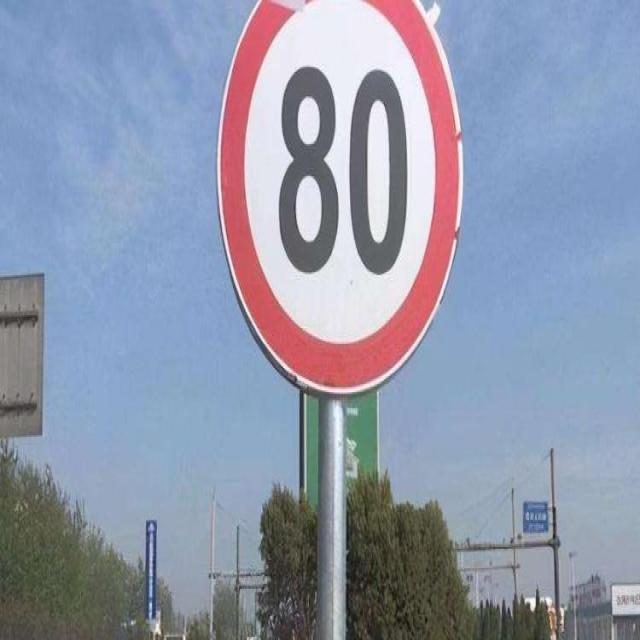speed limit 80: (218, 1, 464, 395)
